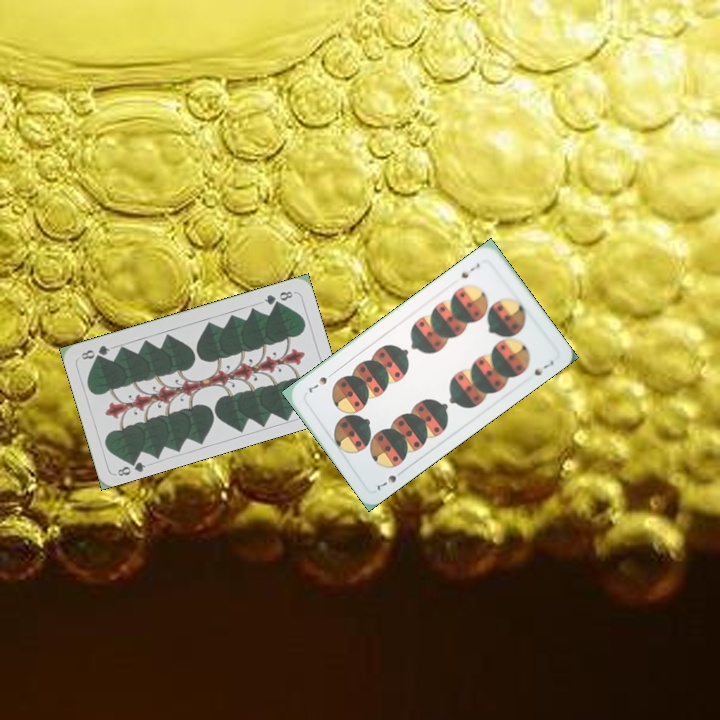G8: (113, 454, 148, 479), (260, 287, 295, 307)
S7: (373, 465, 407, 493), (456, 258, 482, 281)
